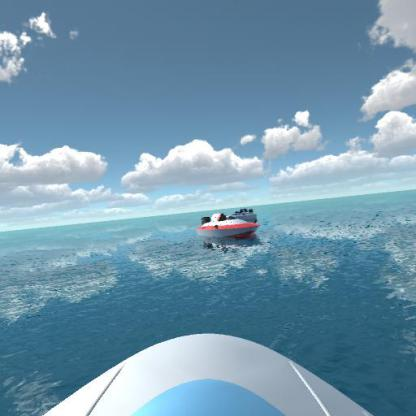usv1: (224, 204, 267, 226)
usv3: (196, 211, 262, 245)
